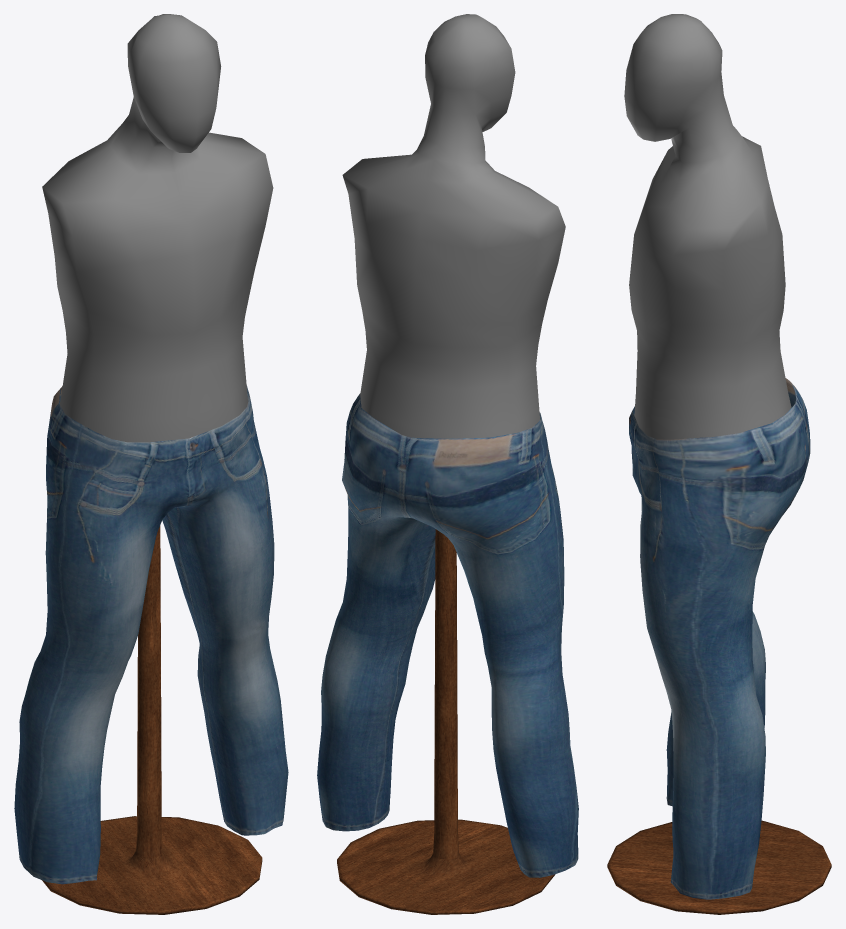
File: manekan test vewo3.fbx
3 renders of one model, left to right at view 1: azimuth 30°, elevation 25°; view 2: azimuth 150°, elevation 25°; view 3: azimuth 270°, elevation 25°, orthographic. The views are drawn at different scales.
Visible parts, largest first — view 1: male LOW, jeans; view 2: male LOW, jeans; view 3: male LOW, jeans.
Part boxes in pixels (left/top/right/bottom): male LOW: left=42, top=14, right=273, bottom=914; jeans: left=14, top=385, right=288, bottom=884; male LOW: left=337, top=14, right=565, bottom=914; jeans: left=317, top=393, right=578, bottom=877; male LOW: left=607, top=14, right=831, bottom=914; jeans: left=629, top=378, right=810, bottom=899.
Size of the model in its own units: 0.4287 by 1.4 by 0.3332.
